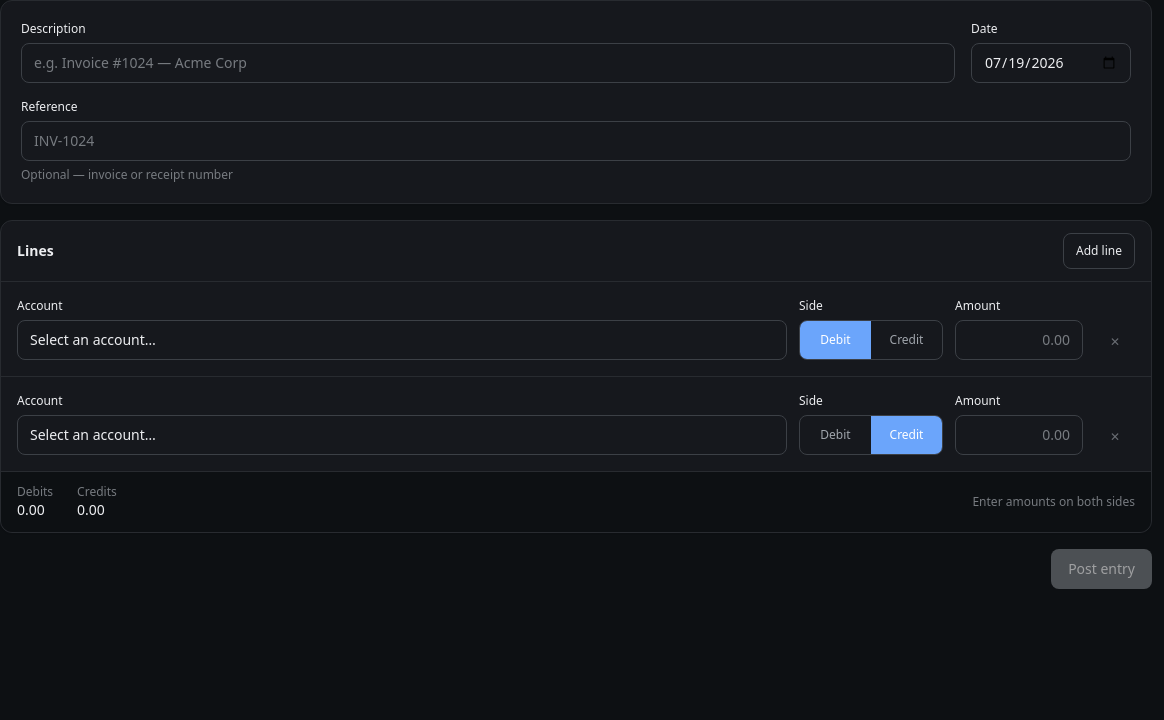
EntryForm — lines › adds a line
Click the button "Add line".
click(1099, 251)  # box [1063,233,1135,269]
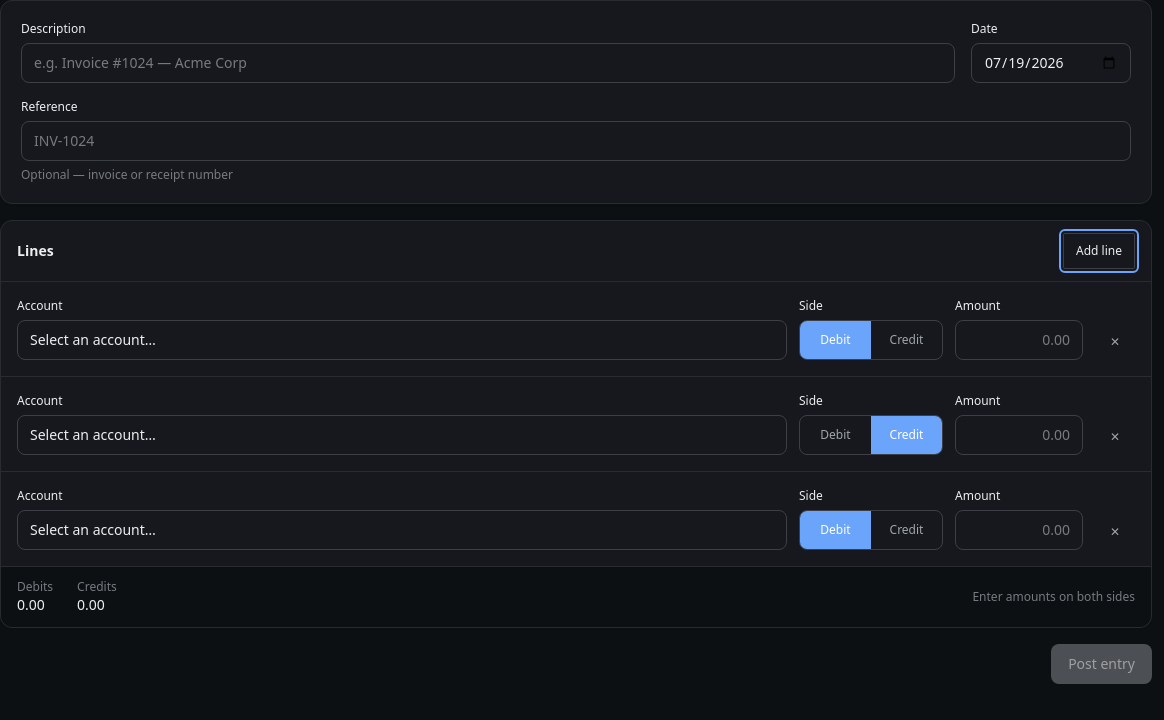
Check: the number of dropdowns labelled "Account" is 3, box [17,320,787,360]; [17,415,787,455]; [17,510,787,550]
